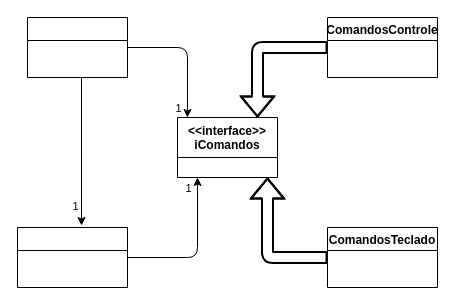
This 456x305 diagram has some shape labels left out. The shapes that lost their labels are listed below. From the top down, each one's centre as x and y in pixels, then its label:
At [77,47]: "Input".
At [72,257]: "ComandosAdapter".
